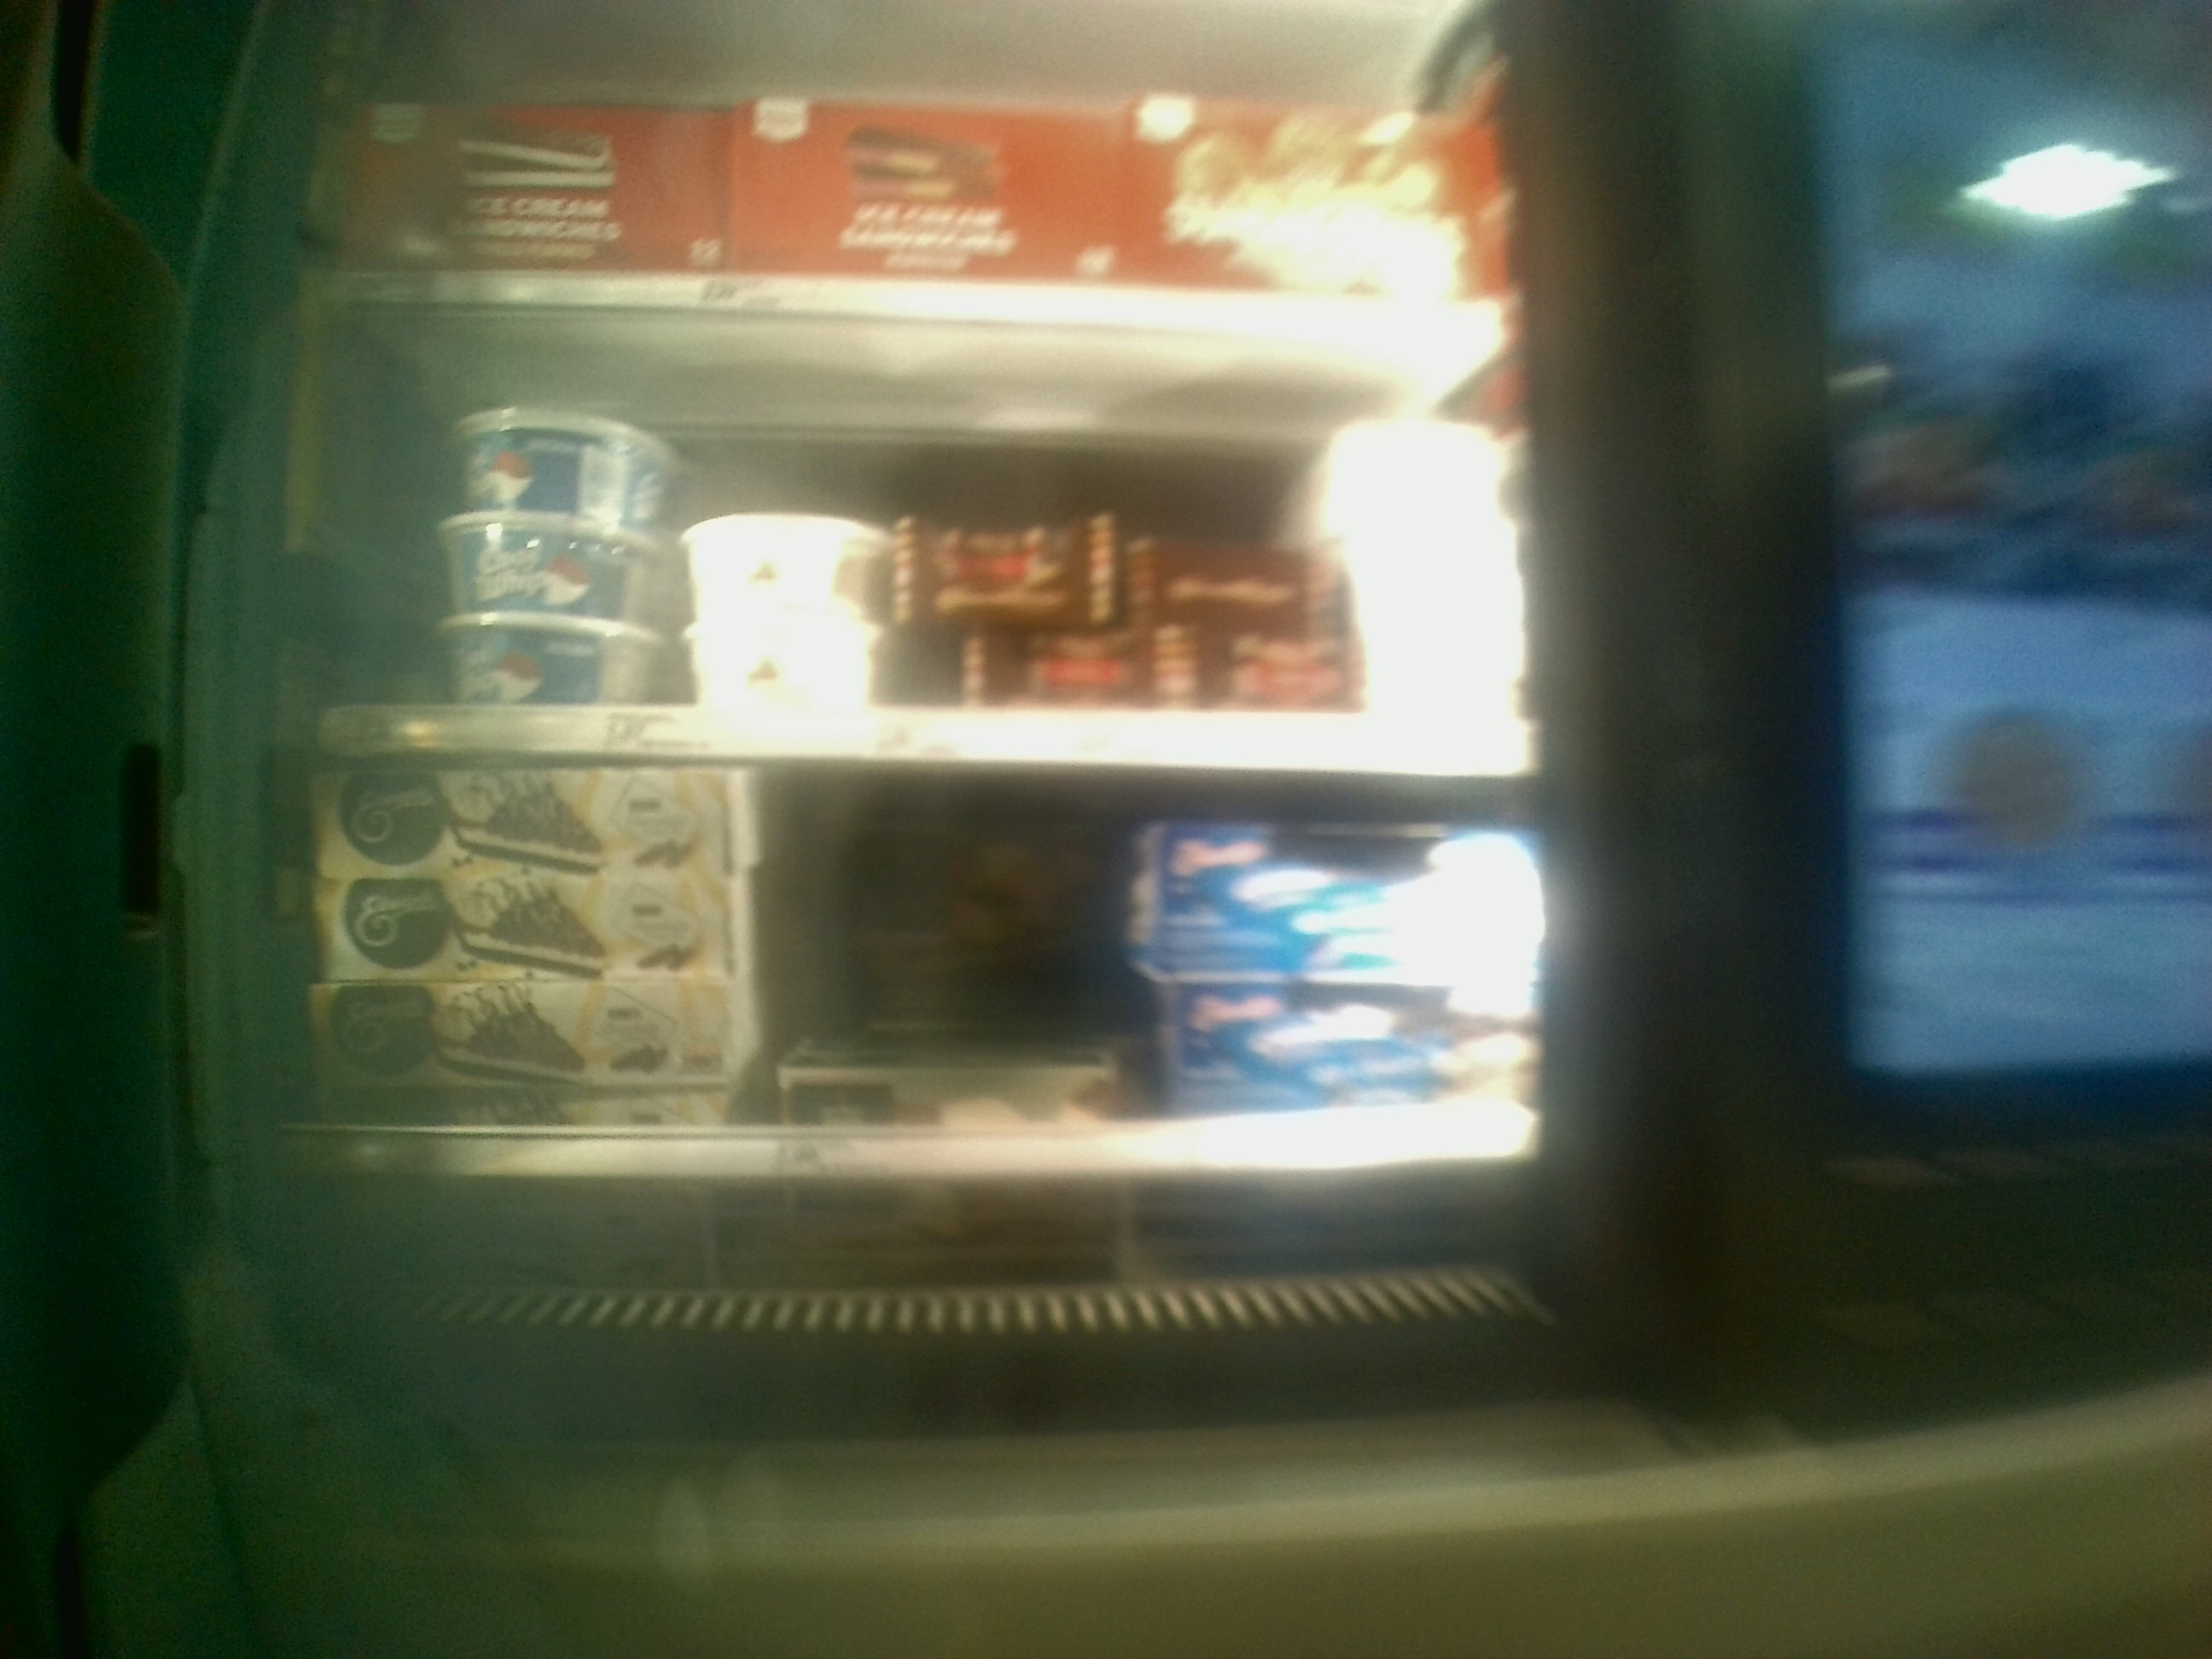frozen-food-shelf: (286, 310, 1543, 779), (249, 784, 1561, 1185)
